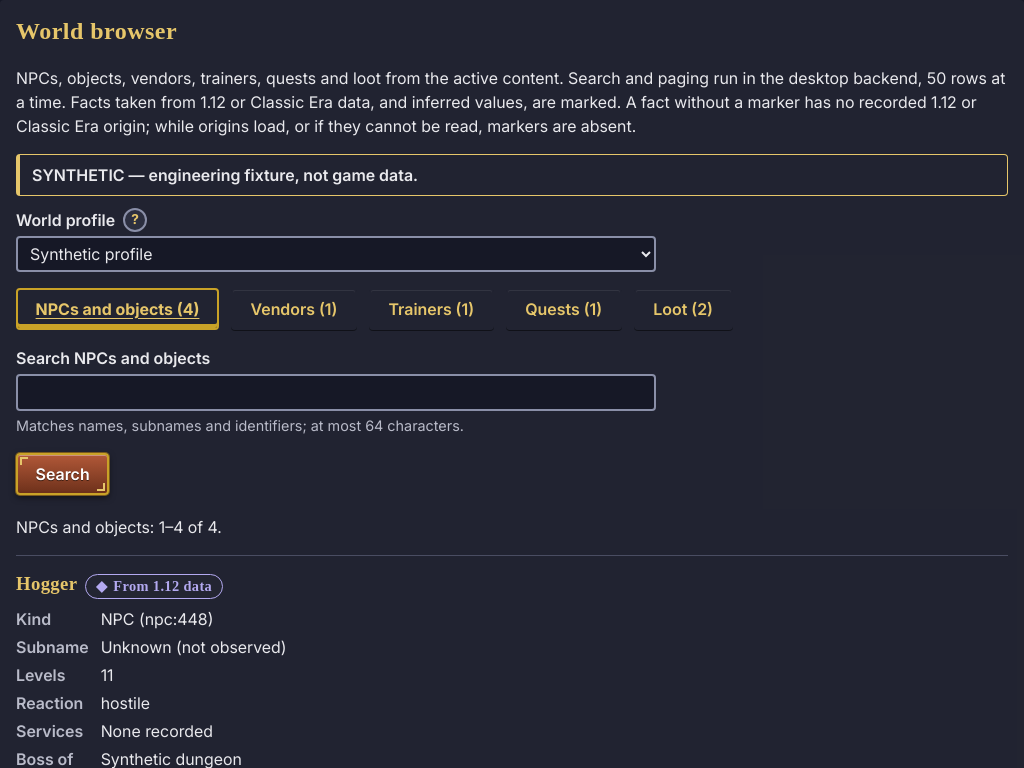
Test case: lists vendor items with cost, loot with chance and quests with objectives, each with origins
The width and height of the screenshot is (1024, 768).
Click the button "Vendors (1)" at (294, 309), box x1=231 y1=288 x2=357 y2=330
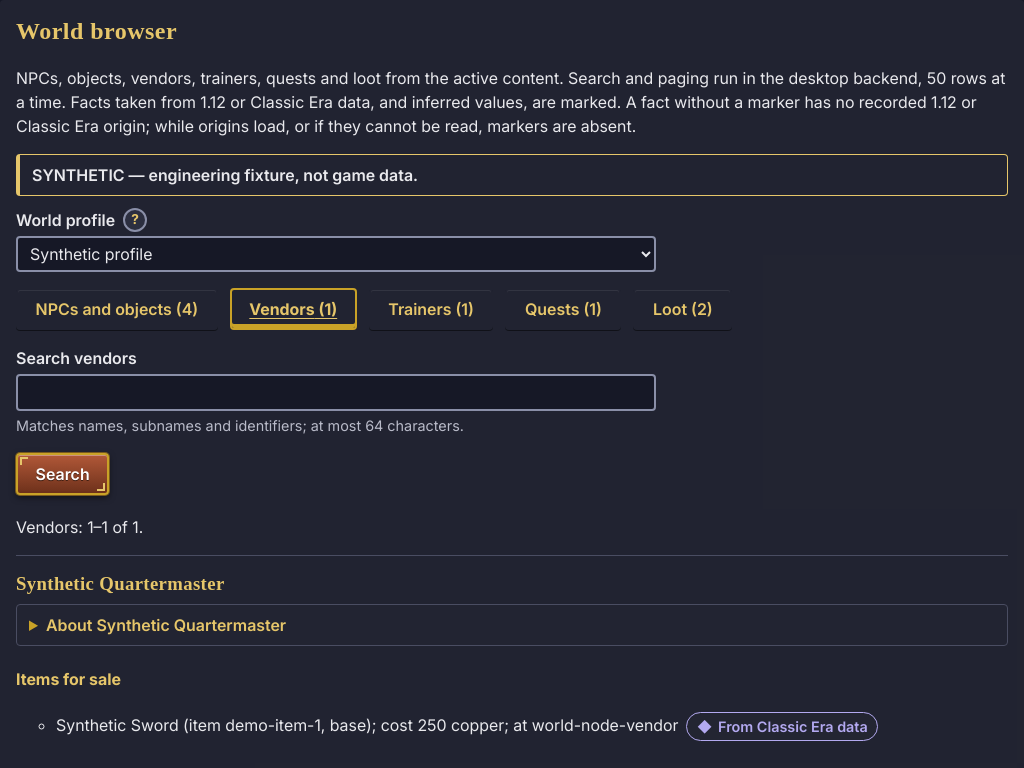
Click the button "Loot (2)" at (683, 309), box x1=634 y1=288 x2=732 y2=330
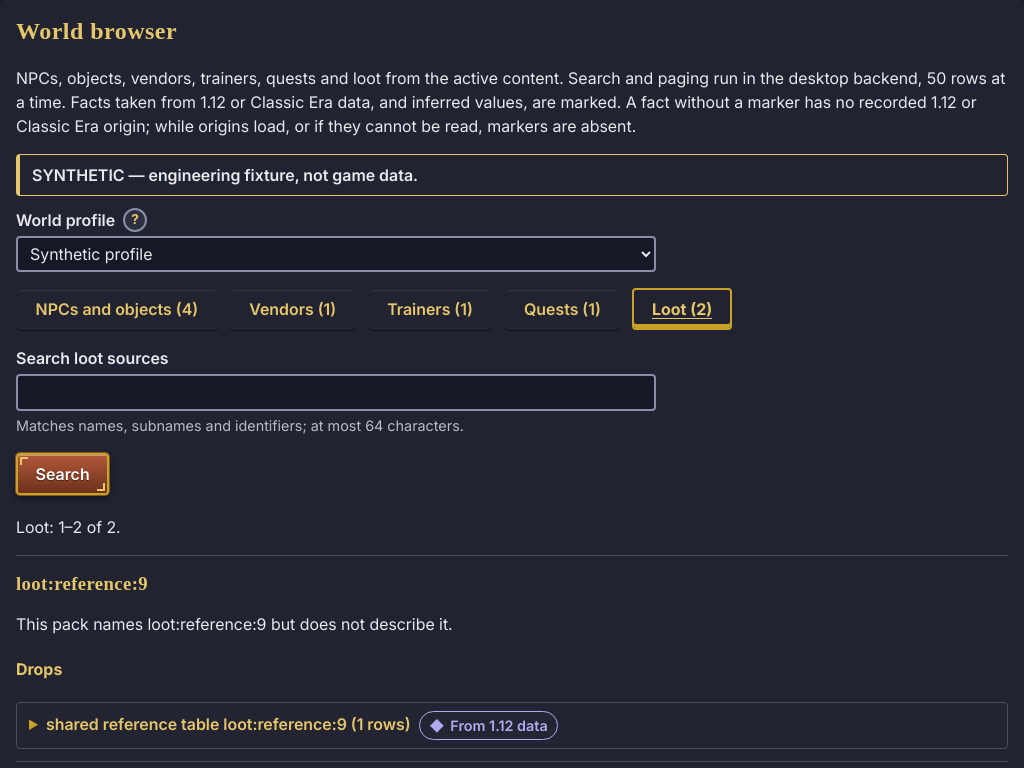
Click the button "Trainers (1)" at (430, 309), box x1=368 y1=288 x2=492 y2=330
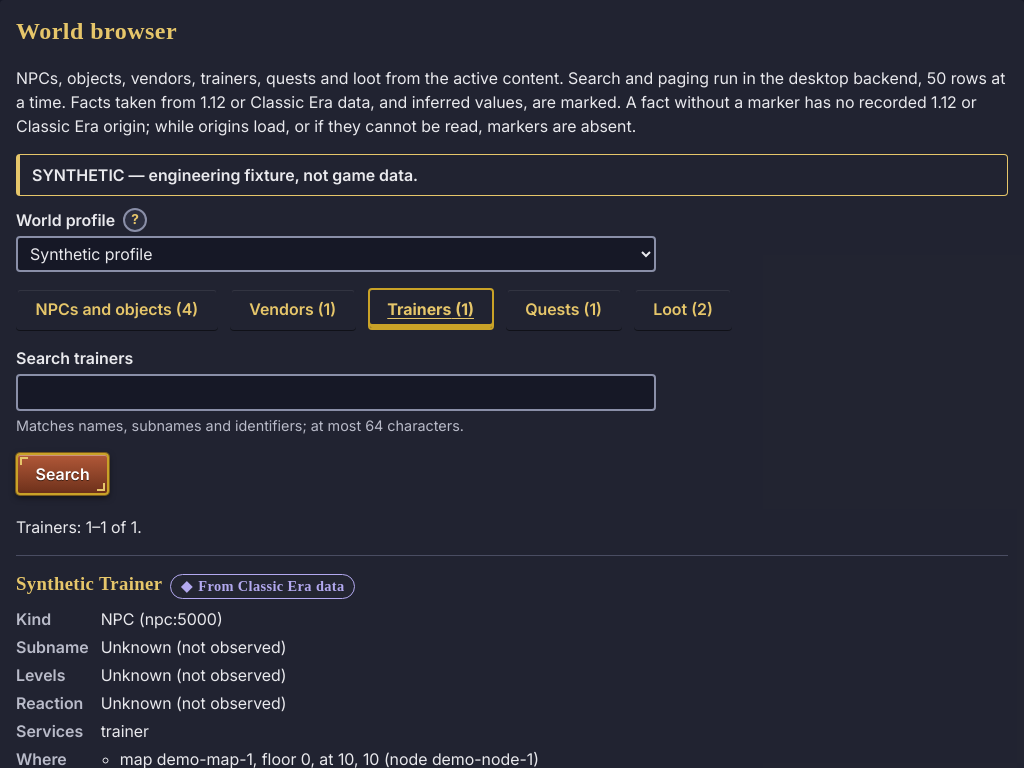
Click the button "Quests (1)" at (564, 309), box x1=506 y1=288 x2=622 y2=330
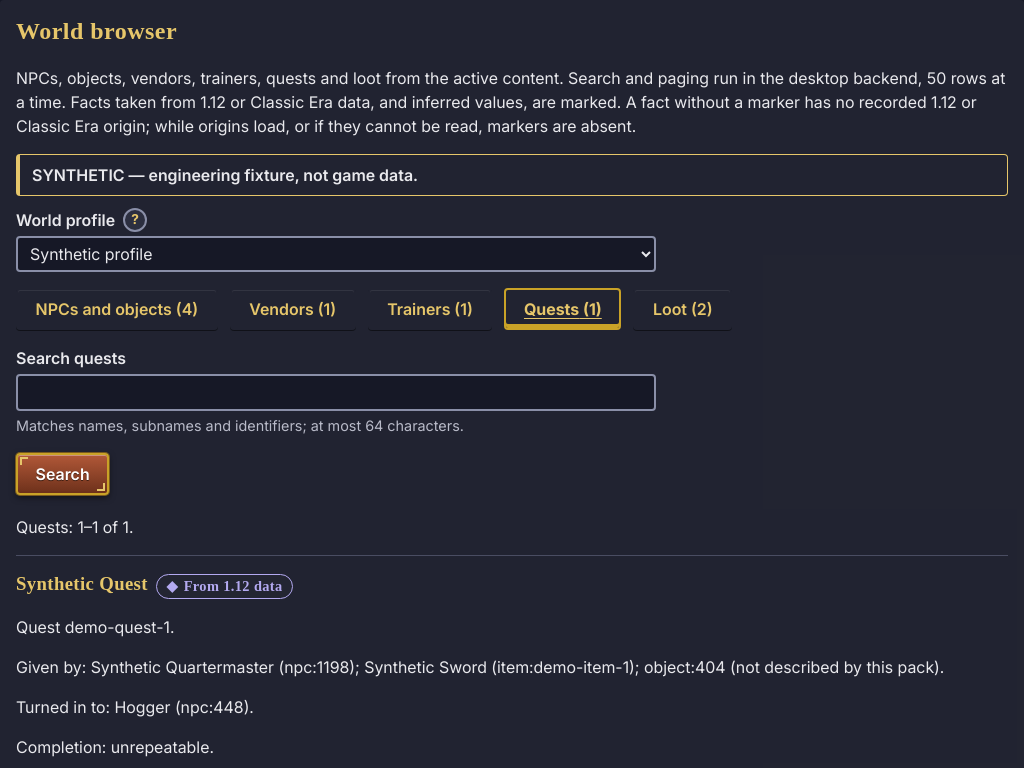
Check: the heading "Synthetic Quest ◆ From 1.12 data" is shown, box x1=16 y1=574 x2=293 y2=599
Check: the text "Quest demo-quest-1." is shown, box x1=16 y1=616 x2=174 y2=636
Check: the text "Given by: Synthetic Quartermaster (npc:1198); Synthetic Sword (item:demo-item-1); object:404 (not described by this" is shown, box x1=16 y1=654 x2=1008 y2=678
